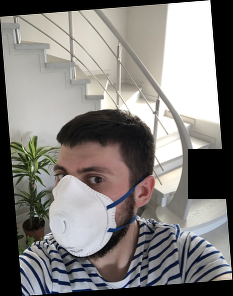with_mask: (48, 157, 126, 262)
